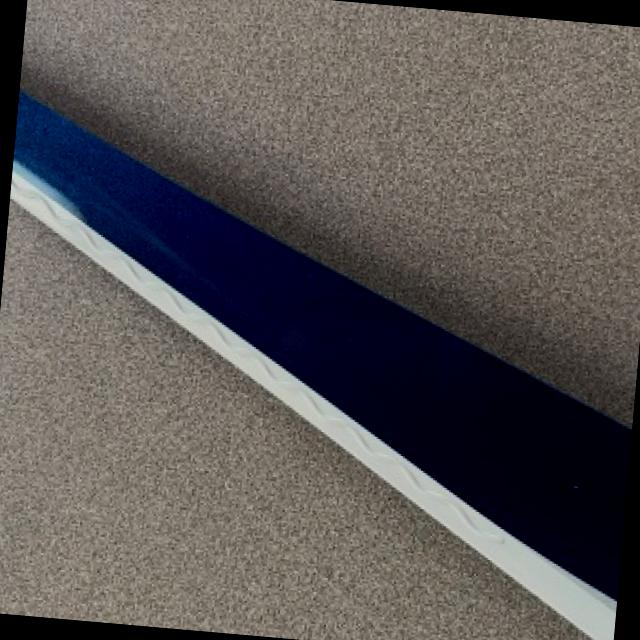healthy: (0, 201, 597, 640)
